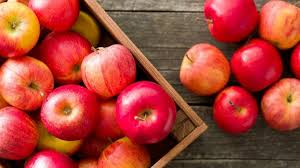apple: (41, 84, 96, 139)
